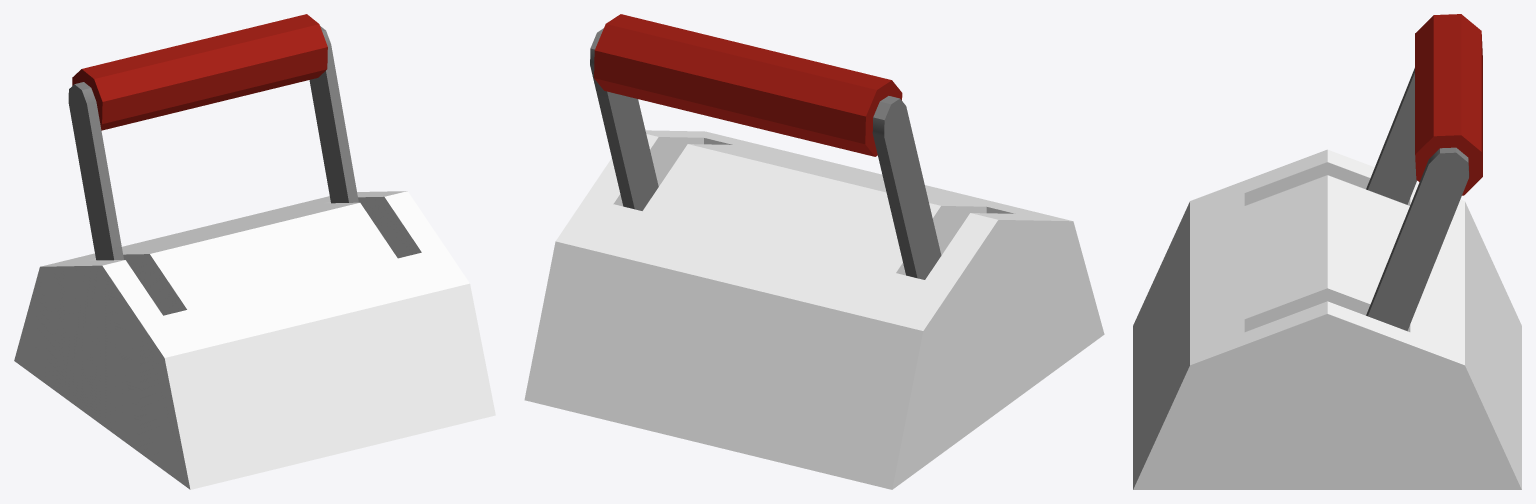
The model's file is lever_modified.fbx.
3 renders of one model, left to right at view 1: azimuth 30°, elevation 25°; view 2: azimuth 150°, elevation 25°; view 3: azimuth 270°, elevation 25°, orthographic. The views are drawn at different scales.
Parts seen in each view (by area): view 1: lever_geo, lever_handle_geo; view 2: lever_geo, lever_handle_geo; view 3: lever_geo, lever_handle_geo.
Part boxes in pixels (x1,y1,x2,y2): lever_geo: (14,191,495,489); lever_handle_geo: (68,14,358,260); lever_geo: (524,130,1104,489); lever_handle_geo: (590,14,941,279); lever_geo: (1133,149,1521,489); lever_handle_geo: (1366,14,1482,331).
Size of the model in its own units: 2 by 1.89 by 2.
